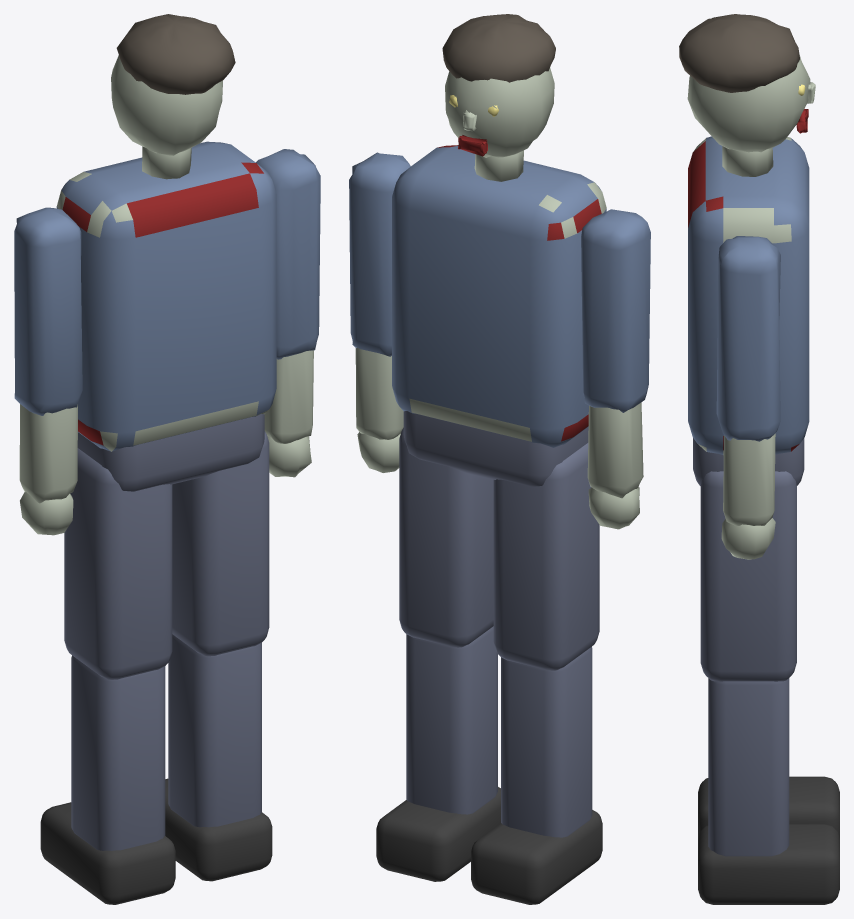
The model's file is Zumbi.fbx.
3 views of the same model, side by side, from view 1: azimuth 30°, elevation 25°; view 2: azimuth 150°, elevation 25°; view 3: azimuth 270°, elevation 25° (orthographic). The views are drawn at different scales.
Parts seen in each view (by area): view 1: Tronco, PernaE, PernaD, BracoE, Cabeca, BracoD, Quadril; view 2: Tronco, PernaE, PernaD, BracoE, Cabeca, BracoD, Quadril; view 3: PernaD, Tronco, BracoD, Cabeca, PernaE, Quadril.
Boxes of the visible parts, bbox=[...] form: Tronco: bbox=[56, 141, 276, 451]; PernaE: bbox=[40, 448, 175, 904]; PernaD: bbox=[165, 431, 272, 881]; BracoE: bbox=[14, 207, 82, 535]; Cabeca: bbox=[111, 14, 235, 179]; BracoD: bbox=[256, 149, 320, 477]; Quadril: bbox=[77, 414, 264, 491]; Tronco: bbox=[392, 145, 606, 447]; PernaE: bbox=[471, 443, 602, 904]; PernaD: bbox=[376, 428, 500, 881]; BracoE: bbox=[581, 209, 650, 529]; Cabeca: bbox=[442, 14, 555, 181]; BracoD: bbox=[349, 152, 410, 472]; Quadril: bbox=[403, 411, 588, 486]; PernaD: bbox=[698, 471, 839, 904]; Tronco: bbox=[688, 136, 809, 454]; BracoD: bbox=[716, 236, 780, 559]; Cabeca: bbox=[679, 14, 815, 176]; PernaE: bbox=[698, 776, 839, 838]; Quadril: bbox=[693, 438, 804, 485].
Bounding box in the file's own units: 0.6608 × 1.85 × 0.3175.
